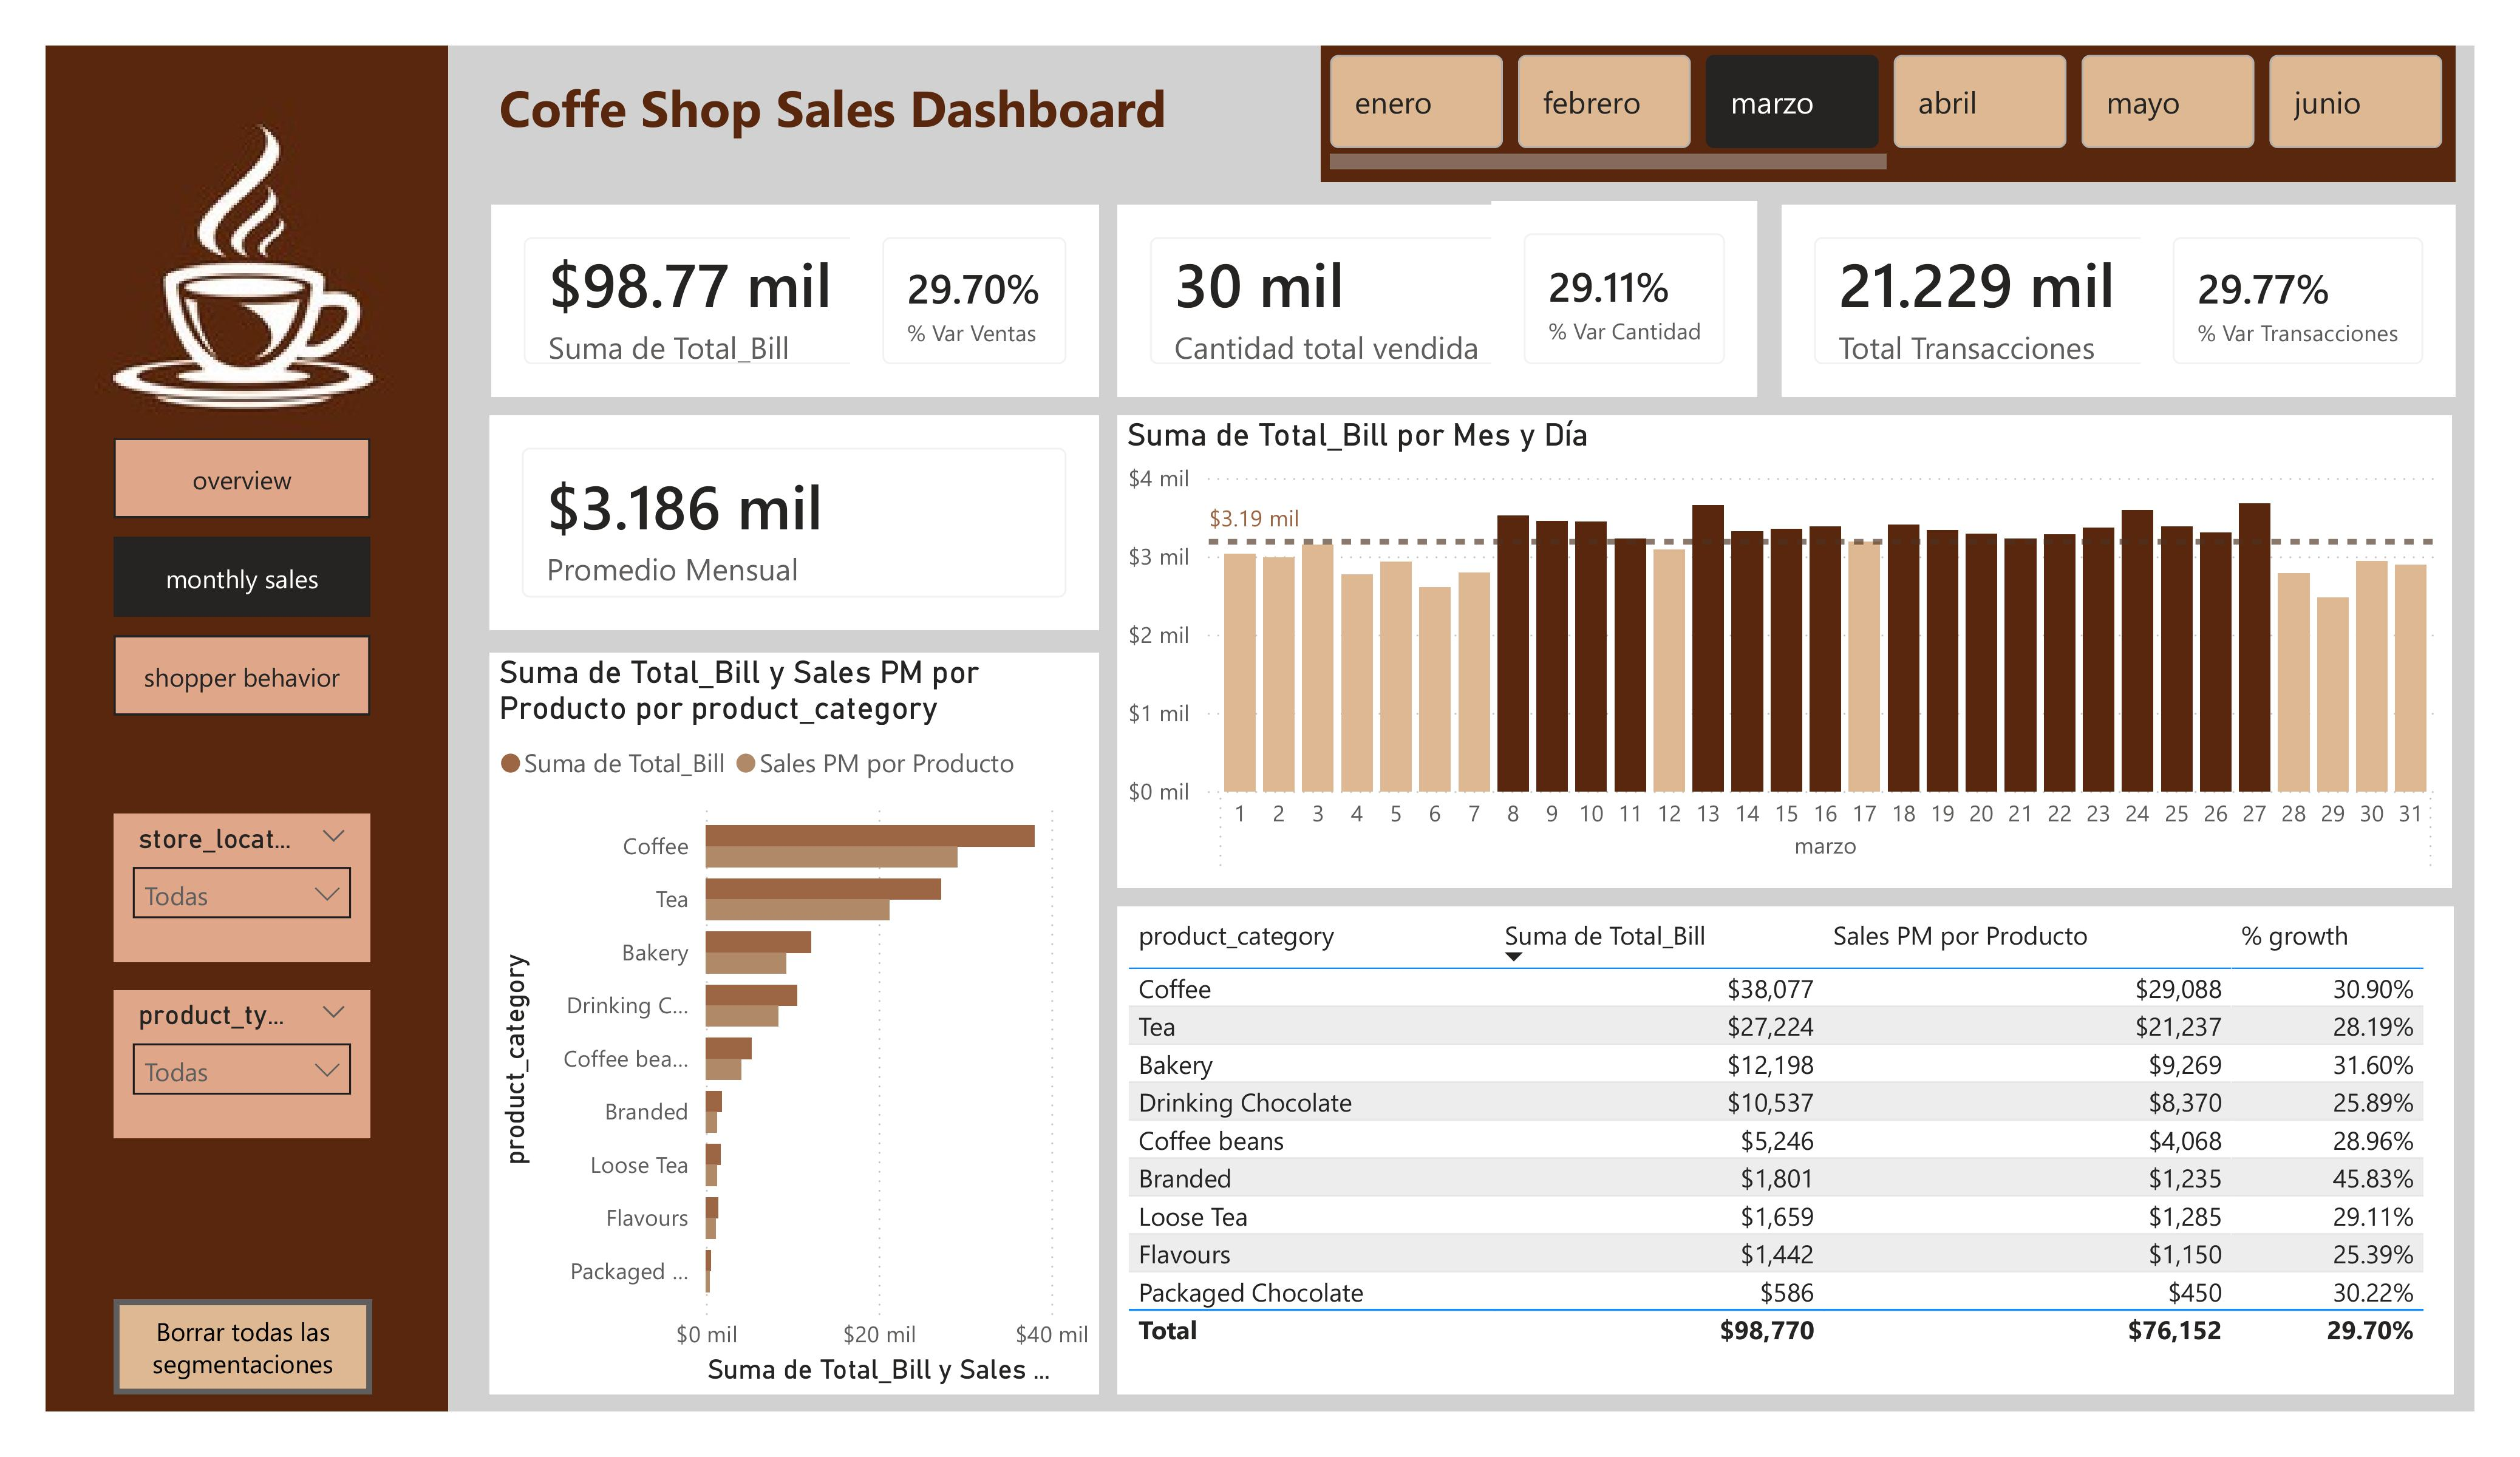

The dashboard page shown, as its layout file describes it:
{"tool":"powerbi","page":{"name":"monthly sales","canvas":[1280,720],"ordinal":1},"visuals":[{"type":"shape","box":[0,0,212,720.5],"z":0},{"type":"slicer","fields":{"Values":["coffee_shop_sales.store_location"]},"box":[36.1,404.8,134.9,78.3],"z":1000},{"type":"slicer","fields":{"Values":["coffee_shop_sales.product_type"]},"box":[36.1,497.6,134.9,78.3],"z":2000},{"type":"pageNavigator","box":[36.1,207.2,134.9,145.8],"z":3000},{"type":"actionButton","box":[36.4,660.6,135.4,50.5],"z":4000},{"type":"clusteredColumnChart","fields":{"Category":["coffee_shop_sales.transaction_date.Variación.Jerarquía de fechas.Mes","coffee_shop_sales.transaction_date.Variación.Jerarquía de fechas.Día"],"Y":["Sum(coffee_shop_sales.Total_Bill)"]},"box":[565.3,195.2,702.7,248.7],"z":5000},{"type":"advancedSlicerVisual","fields":{"Values":["coffee_shop_sales.transaction_date.Variación.Jerarquía de fechas.Mes"]},"box":[672.3,0,597.6,72.3],"z":6000},{"type":"textbox","box":[233.6,8.8,407,48.5],"z":7000},{"type":"cardVisual","fields":{"Data":["Count(coffee_shop_sales.transaction_id)"]},"box":[914.8,84,218.5,101.2],"z":8000},{"type":"cardVisual","fields":{"Data":["Sum(coffee_shop_sales.transaction_qty)"]},"box":[565.3,83.9,219.8,101.2],"z":9000},{"type":"cardVisual","fields":{"Data":["Sum(coffee_shop_sales.Total_Bill)"]},"box":[234.6,84,223.5,101.2],"z":10000},{"type":"image","box":[24.1,28.9,162.7,178.3],"z":11000},{"type":"cardVisual","fields":{"Data":["Medidas.% Var Ventas"]},"box":[423.6,83.9,131.6,101.2],"z":12000},{"type":"cardVisual","fields":{"Data":["Medidas.% Var Cantidad"]},"box":[761.9,82.4,140.2,102.7],"z":13000},{"type":"cardVisual","fields":{"Data":["Medidas.% Var Trans"]},"box":[1103.7,84,166.7,101.2],"z":14000},{"type":"clusteredBarChart","fields":{"Category":["coffee_shop_sales.product_category"],"Y":["Sum(coffee_shop_sales.Total_Bill)","Medidas.Sales PM por Producto"]},"box":[234.2,319.5,321,391.8],"z":15000},{"type":"tableEx","fields":{"Values":["coffee_shop_sales.product_category","Sum(coffee_shop_sales.Total_Bill)","Medidas.Sales PM por Producto","Medidas.% growth"]},"box":[565.3,454,704.1,257.3],"z":16000},{"type":"cardVisual","fields":{"Data":["Medidas.Promedio Mensual"]},"box":[234.2,195.2,321,112.8],"z":17000}]}

Visuals, with their boxes on the page's 1280x720 design canvas (x1, y1, x2, y2). These are canvas units, not pixel positions in the 2520x1457 screenshot, which may show the page scaled, cropped or inside an application window:
shape: locate(0, 0, 212, 720)
slicer - coffee_shop_sales.store_location: locate(36, 405, 171, 483)
slicer - coffee_shop_sales.product_type: locate(36, 498, 171, 576)
pageNavigator: locate(36, 207, 171, 353)
actionButton: locate(36, 661, 172, 711)
clusteredColumnChart - coffee_shop_sales.transaction_date.Variación.Jerarquía de fechas.Mes x coffee_shop_sales.transaction_date.Variación.Jerarquía de fechas.Día: locate(565, 195, 1268, 444)
advancedSlicerVisual - coffee_shop_sales.transaction_date.Variación.Jerarquía de fechas.Mes: locate(672, 0, 1270, 72)
textbox: locate(234, 9, 641, 57)
cardVisual - Count(coffee_shop_sales.transaction_id): locate(915, 84, 1133, 185)
cardVisual - Sum(coffee_shop_sales.transaction_qty): locate(565, 84, 785, 185)
cardVisual - Sum(coffee_shop_sales.Total_Bill): locate(235, 84, 458, 185)
image: locate(24, 29, 187, 207)
cardVisual - Medidas.% Var Ventas: locate(424, 84, 555, 185)
cardVisual - Medidas.% Var Cantidad: locate(762, 82, 902, 185)
cardVisual - Medidas.% Var Trans: locate(1104, 84, 1270, 185)
clusteredBarChart - coffee_shop_sales.product_category x Sum(coffee_shop_sales.Total_Bill): locate(234, 320, 555, 711)
tableEx - coffee_shop_sales.product_category x Sum(coffee_shop_sales.Total_Bill): locate(565, 454, 1269, 711)
cardVisual - Medidas.Promedio Mensual: locate(234, 195, 555, 308)
